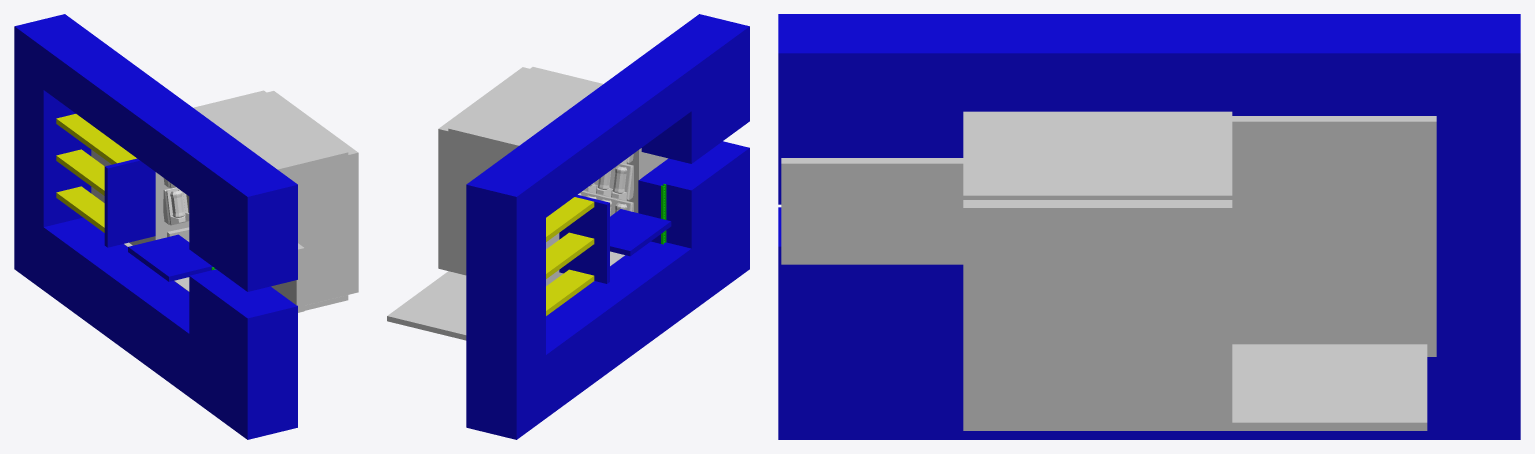
File: Level_3_scene12_colored_bg.fbx
3 renders of one model, left to right at view 1: azimuth 30°, elevation 25°; view 2: azimuth 150°, elevation 25°; view 3: azimuth 270°, elevation 25°, orthographic. The views are drawn at different scales.
Parts seen in each view (by area): view 1: Cube.107, Cube.177, Cube.178, Cube.110, Cube.108, Cube.012, Cube.001, Cube.002, Cube.175, Cube.271, Cube.179, Cube.180; view 2: Cube.107, Cube.177, Cube.178, Cube.179, Cube.110, Cube.108, Cube.002, Cube.001, Cube.012, Cube.004, Cube.265, Cube.175 (+1 smaller); view 3: Cube.107, Cube.177, Cube.180, Cube.178, Cube.175, Cube.179.
Part boxes in pixels (bbox=[...]): Cube.107: bbox=[14, 14, 297, 439]; Cube.177: bbox=[154, 91, 358, 305]; Cube.178: bbox=[193, 90, 348, 173]; Cube.110: bbox=[104, 158, 155, 247]; Cube.108: bbox=[128, 234, 212, 281]; Cube.012: bbox=[56, 114, 136, 164]; Cube.001: bbox=[56, 149, 104, 195]; Cube.002: bbox=[56, 186, 104, 232]; Cube.175: bbox=[271, 243, 304, 312]; Cube.271: bbox=[163, 187, 186, 225]; Cube.179: bbox=[124, 242, 348, 310]; Cube.180: bbox=[91, 150, 154, 245]; Cube.107: bbox=[466, 14, 749, 439]; Cube.177: bbox=[438, 67, 641, 276]; Cube.178: bbox=[448, 67, 603, 147]; Cube.179: bbox=[387, 251, 624, 340]; Cube.110: bbox=[559, 195, 609, 283]; Cube.108: bbox=[610, 209, 671, 256]; Cube.002: bbox=[546, 269, 594, 315]; Cube.001: bbox=[546, 232, 594, 278]; Cube.012: bbox=[546, 197, 594, 241]; Cube.004: bbox=[638, 178, 663, 243]; Cube.265: bbox=[611, 163, 633, 200]; Cube.175: bbox=[641, 152, 667, 177]; Cube.107: bbox=[778, 14, 1520, 439]; Cube.177: bbox=[963, 200, 1232, 430]; Cube.180: bbox=[1232, 116, 1436, 356]; Cube.178: bbox=[963, 111, 1232, 199]; Cube.175: bbox=[781, 158, 963, 264]; Cube.179: bbox=[963, 344, 1427, 430].
Bounding box in the file's own units: 3348 × 4600 × 8000.
